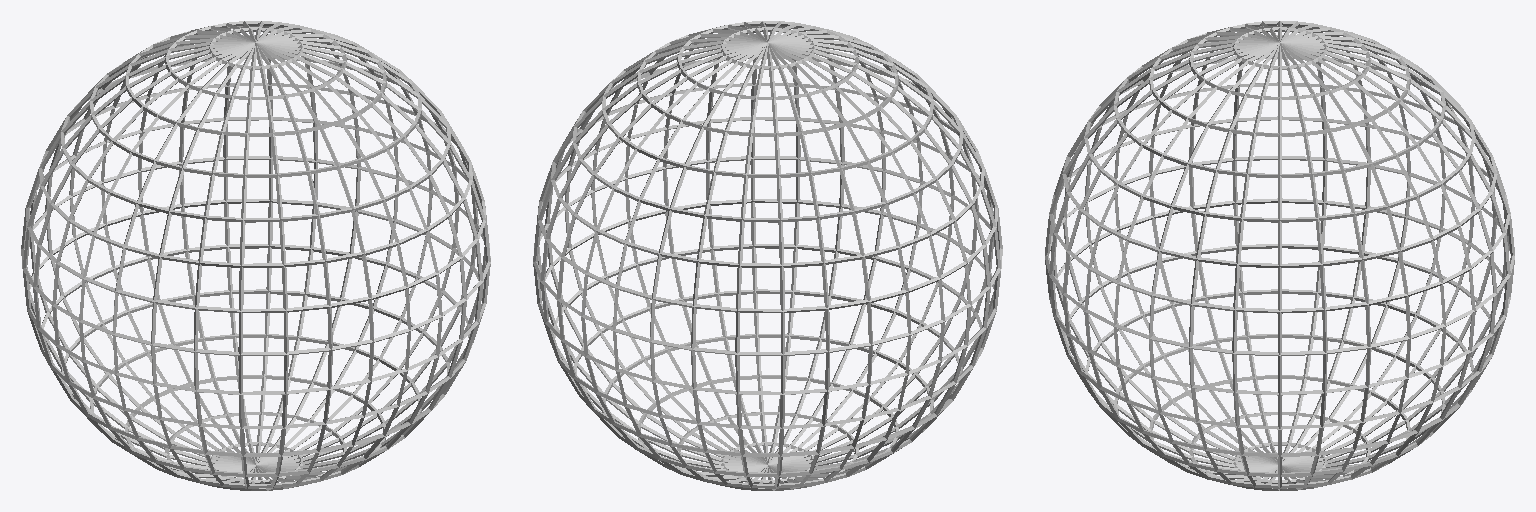
Rendered from boundingSphere.obj.
3 views of the same model, side by side, from view 1: azimuth 30°, elevation 25°; view 2: azimuth 150°, elevation 25°; view 3: azimuth 270°, elevation 25° (orthographic).
Visible parts, largest first — view 1: Sphere; view 2: Sphere; view 3: Sphere.
Boxes of the visible parts, x1=… form: Sphere: x1=21, y1=21, x2=490, y2=490; Sphere: x1=533, y1=21, x2=1002, y2=490; Sphere: x1=1045, y1=21, x2=1514, y2=490.
Size of the model in its own units: 2.02 by 2.02 by 2.02.